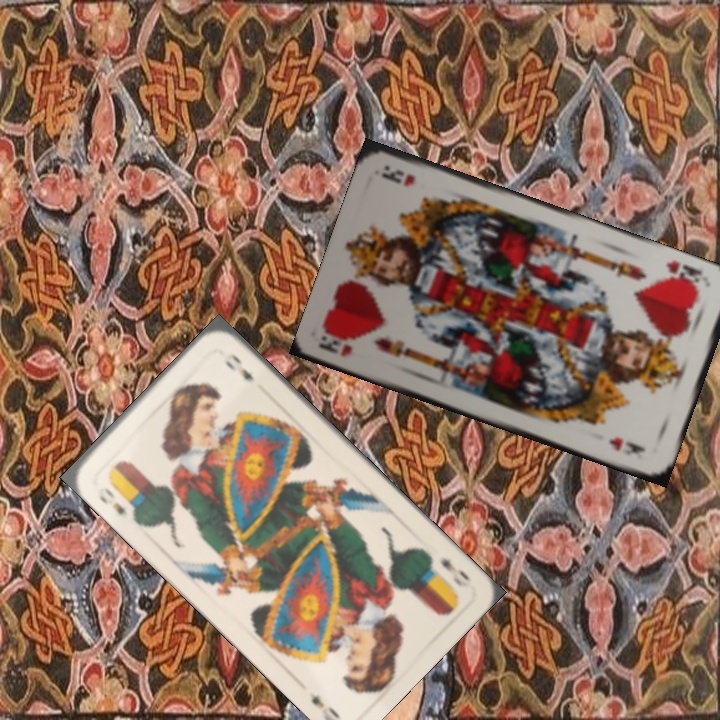EO: (436, 554, 474, 591), (95, 483, 131, 518)
HK: (659, 256, 705, 293), (317, 329, 355, 360)
